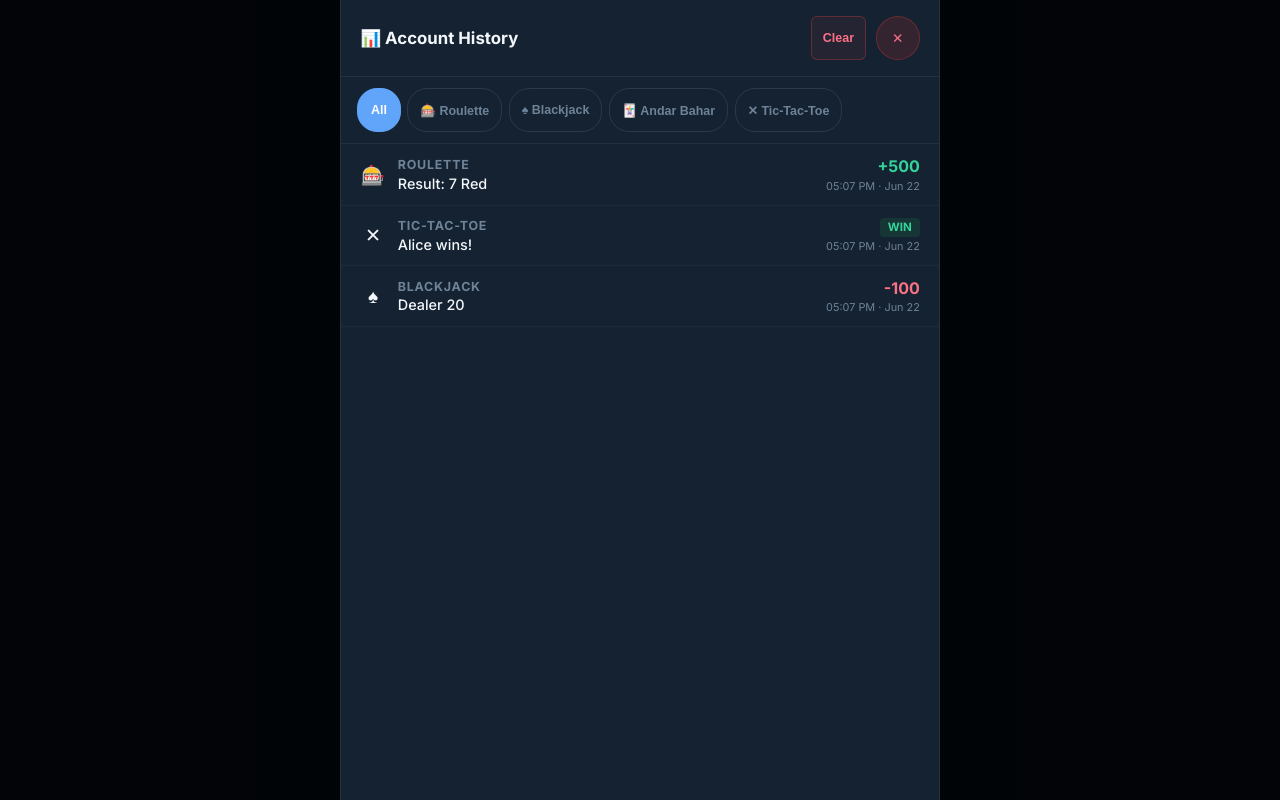
Test: AccountHistory › filtering › shows all when All tab clicked
// Click a specific filter first
Click the button "🎰 Roulette".
click(455, 110)  # box top-left (407, 88), bottom-right (502, 132)
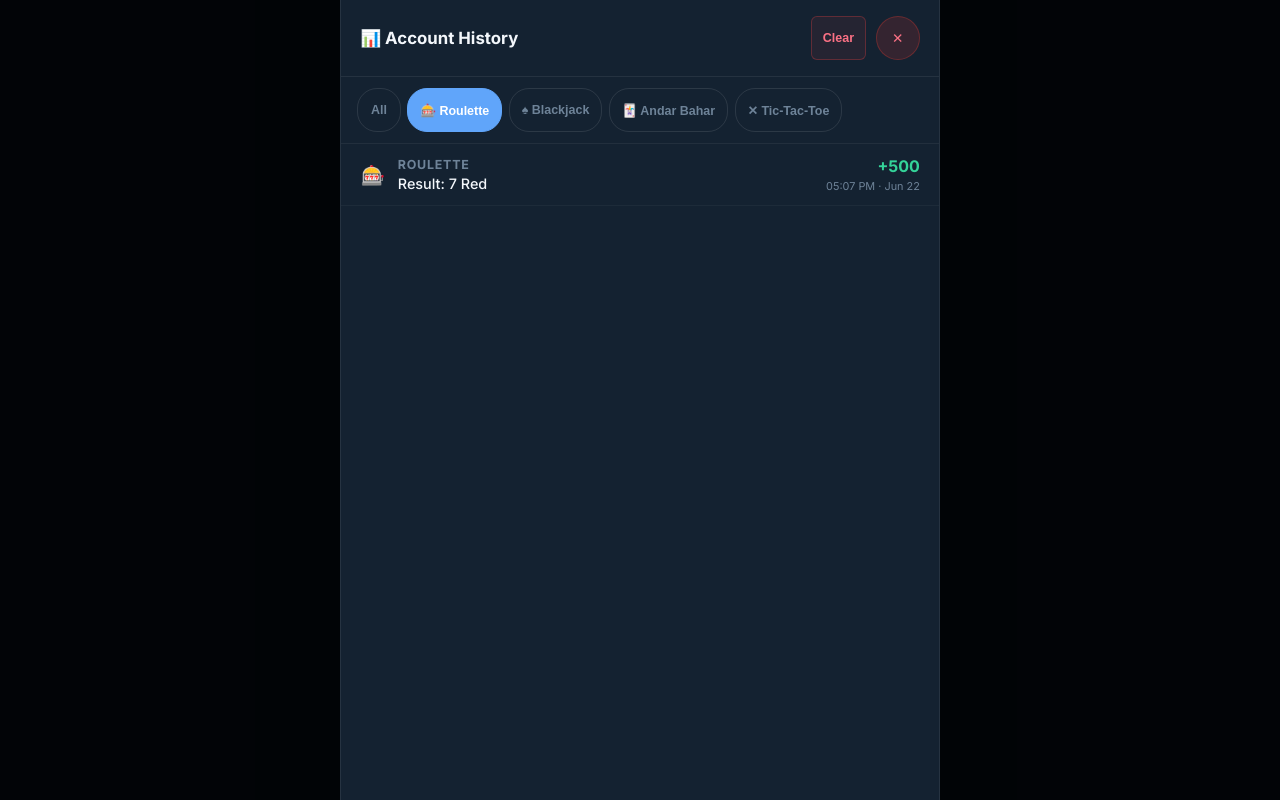
// Then click All
Click the button "All".
click(379, 110)  # box top-left (357, 88), bottom-right (401, 132)
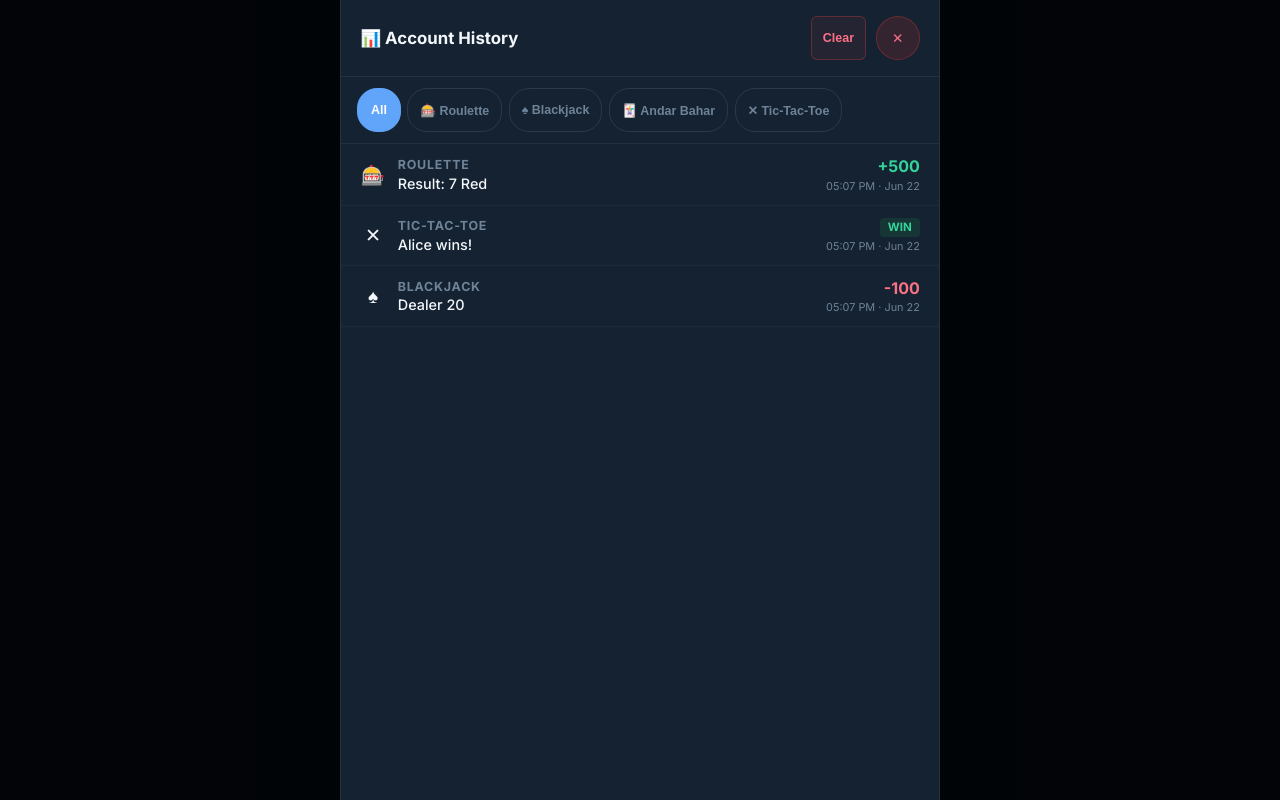
Result: the number of elements with class "ah-row" is 3 at top-left (341, 144), bottom-right (939, 206); top-left (341, 206), bottom-right (939, 266); top-left (341, 266), bottom-right (939, 327)
